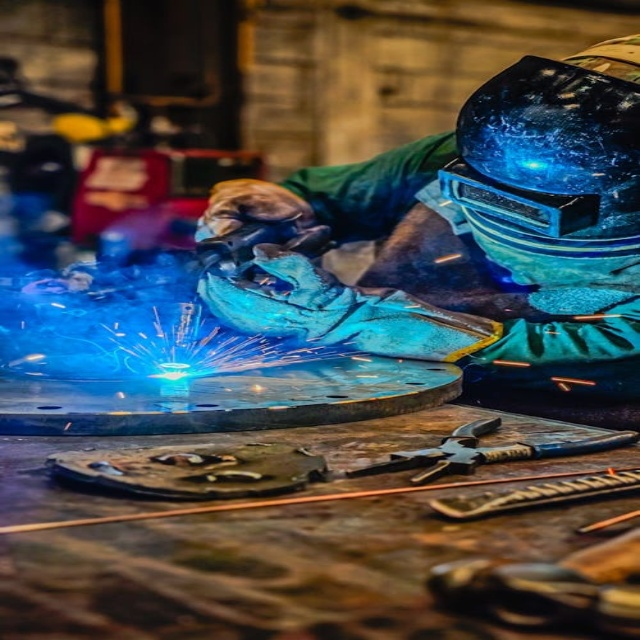Guantes: (204, 244, 509, 365), (182, 172, 343, 252)
